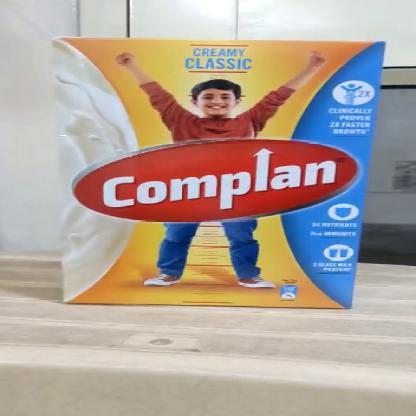Complan Classic Creme: (67, 41, 376, 306)
